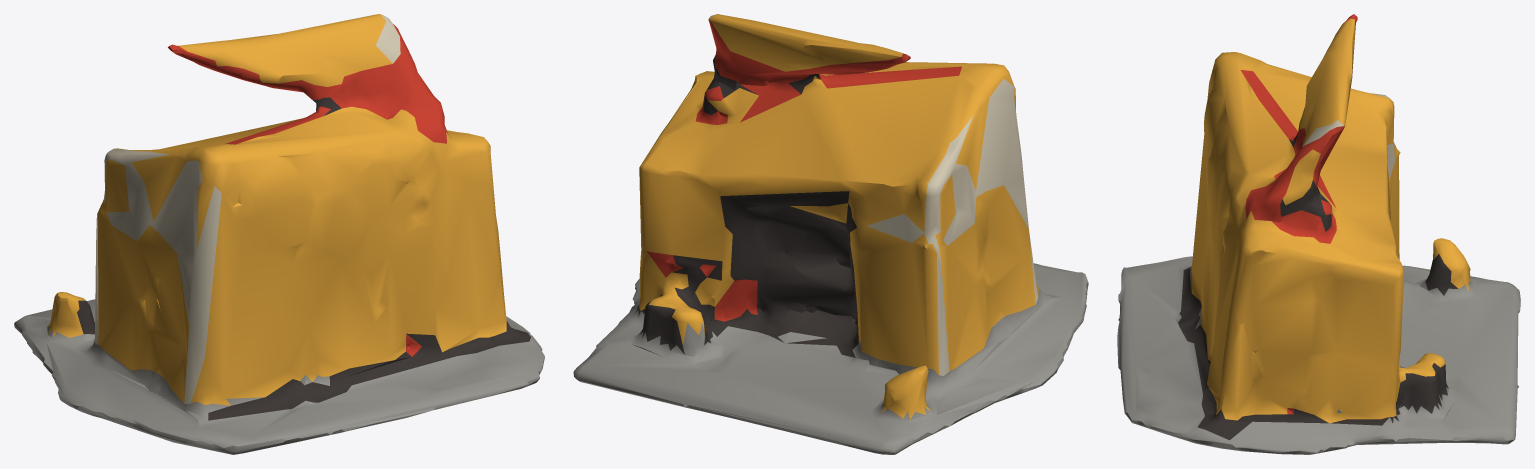
The model's file is workshop.glb.
The picture shows the model from 3 angles, left to right: view 1: azimuth 30°, elevation 25°; view 2: azimuth 150°, elevation 25°; view 3: azimuth 270°, elevation 25°; orthographic projection. The views are drawn at different scales.
Visible parts, largest first — view 1: workshop; view 2: workshop; view 3: workshop.
Part boxes in pixels (x1,y1,x2,y2): workshop: [14, 14, 544, 454]; workshop: [573, 14, 1088, 454]; workshop: [1117, 14, 1520, 454].
Bounding box in the file's own units: 2.57 × 1.93 × 2.24.
